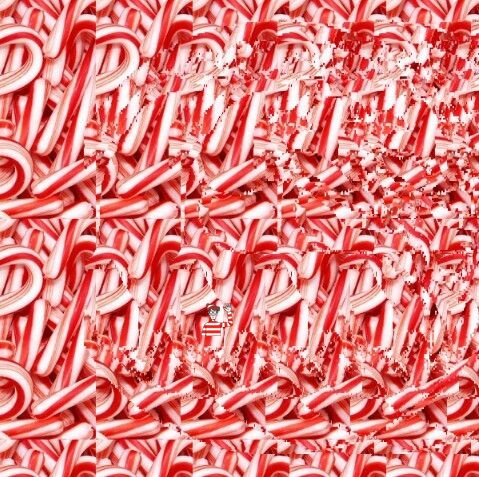waldo: (201, 303, 233, 336)
